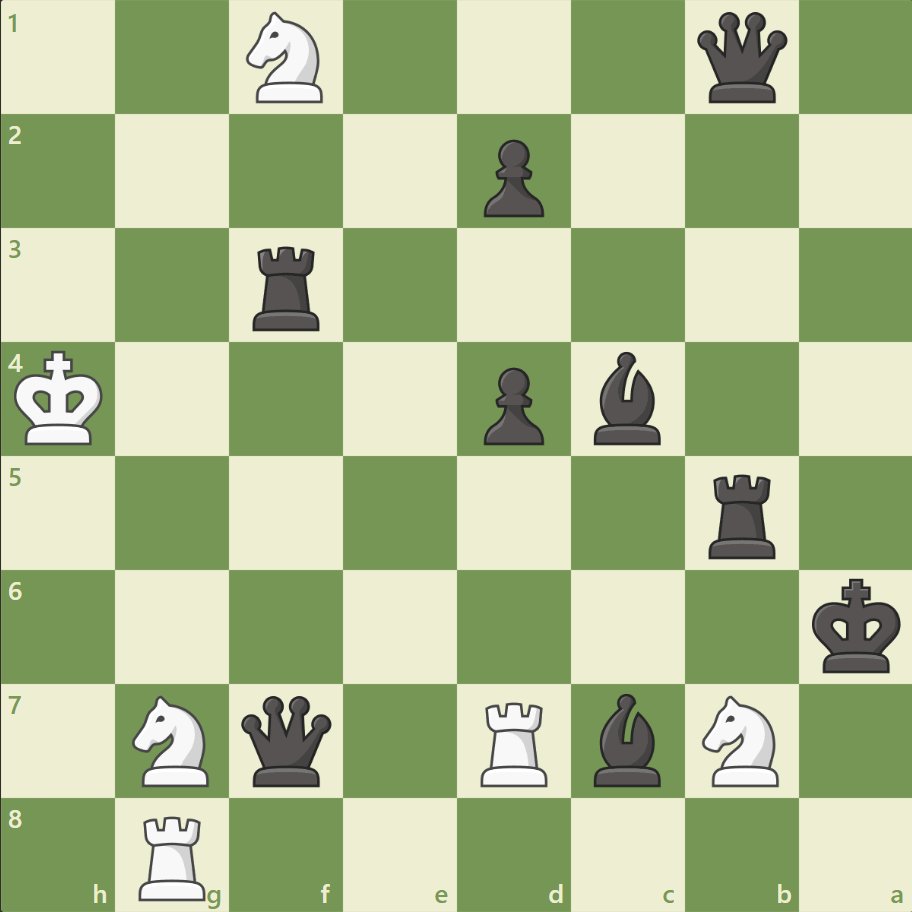K: (11, 344, 111, 452)
N: (124, 688, 222, 791), (692, 688, 789, 791), (238, 7, 335, 110)
R: (473, 693, 556, 790), (133, 806, 215, 904)
b: (585, 687, 669, 790), (585, 347, 669, 449)
k: (806, 571, 906, 679)
p: (474, 359, 549, 450), (474, 132, 549, 223)
q: (237, 690, 336, 789), (691, 9, 790, 108)
r: (700, 466, 783, 563), (246, 239, 329, 336)
